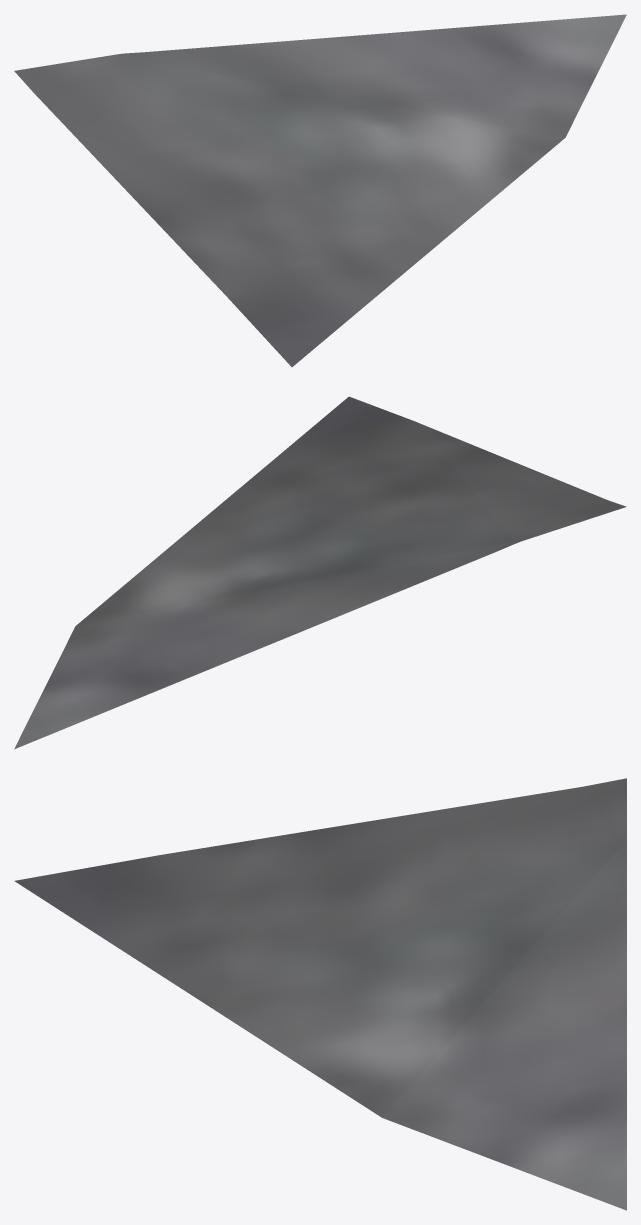
3 views of the same model, one above another, from view 1: azimuth 30°, elevation 25°; view 2: azimuth 210°, elevation 25°; view 3: azimuth 270°, elevation 25° (orthographic). The views are drawn at different scales.
Bounding box in the file's own units: 0.3569 × 0.0518 × 0.2803.
1 material, 1 textured.
